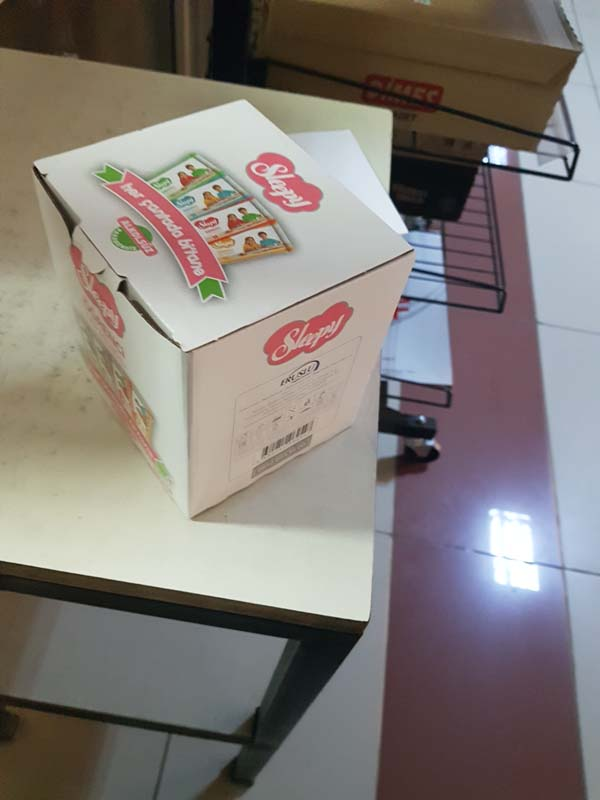sleepyogrencikoli: (16, 93, 419, 532)
